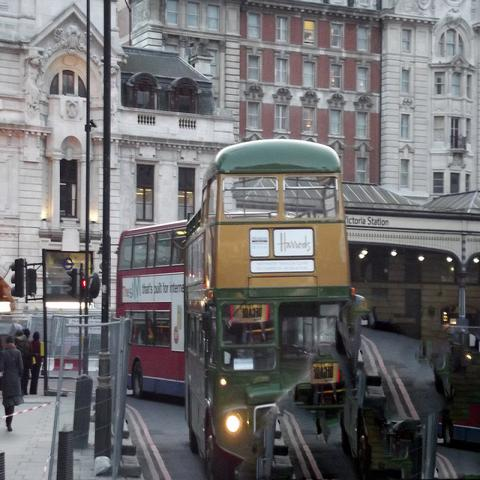bus: (179, 140, 348, 472), (115, 219, 189, 399)
